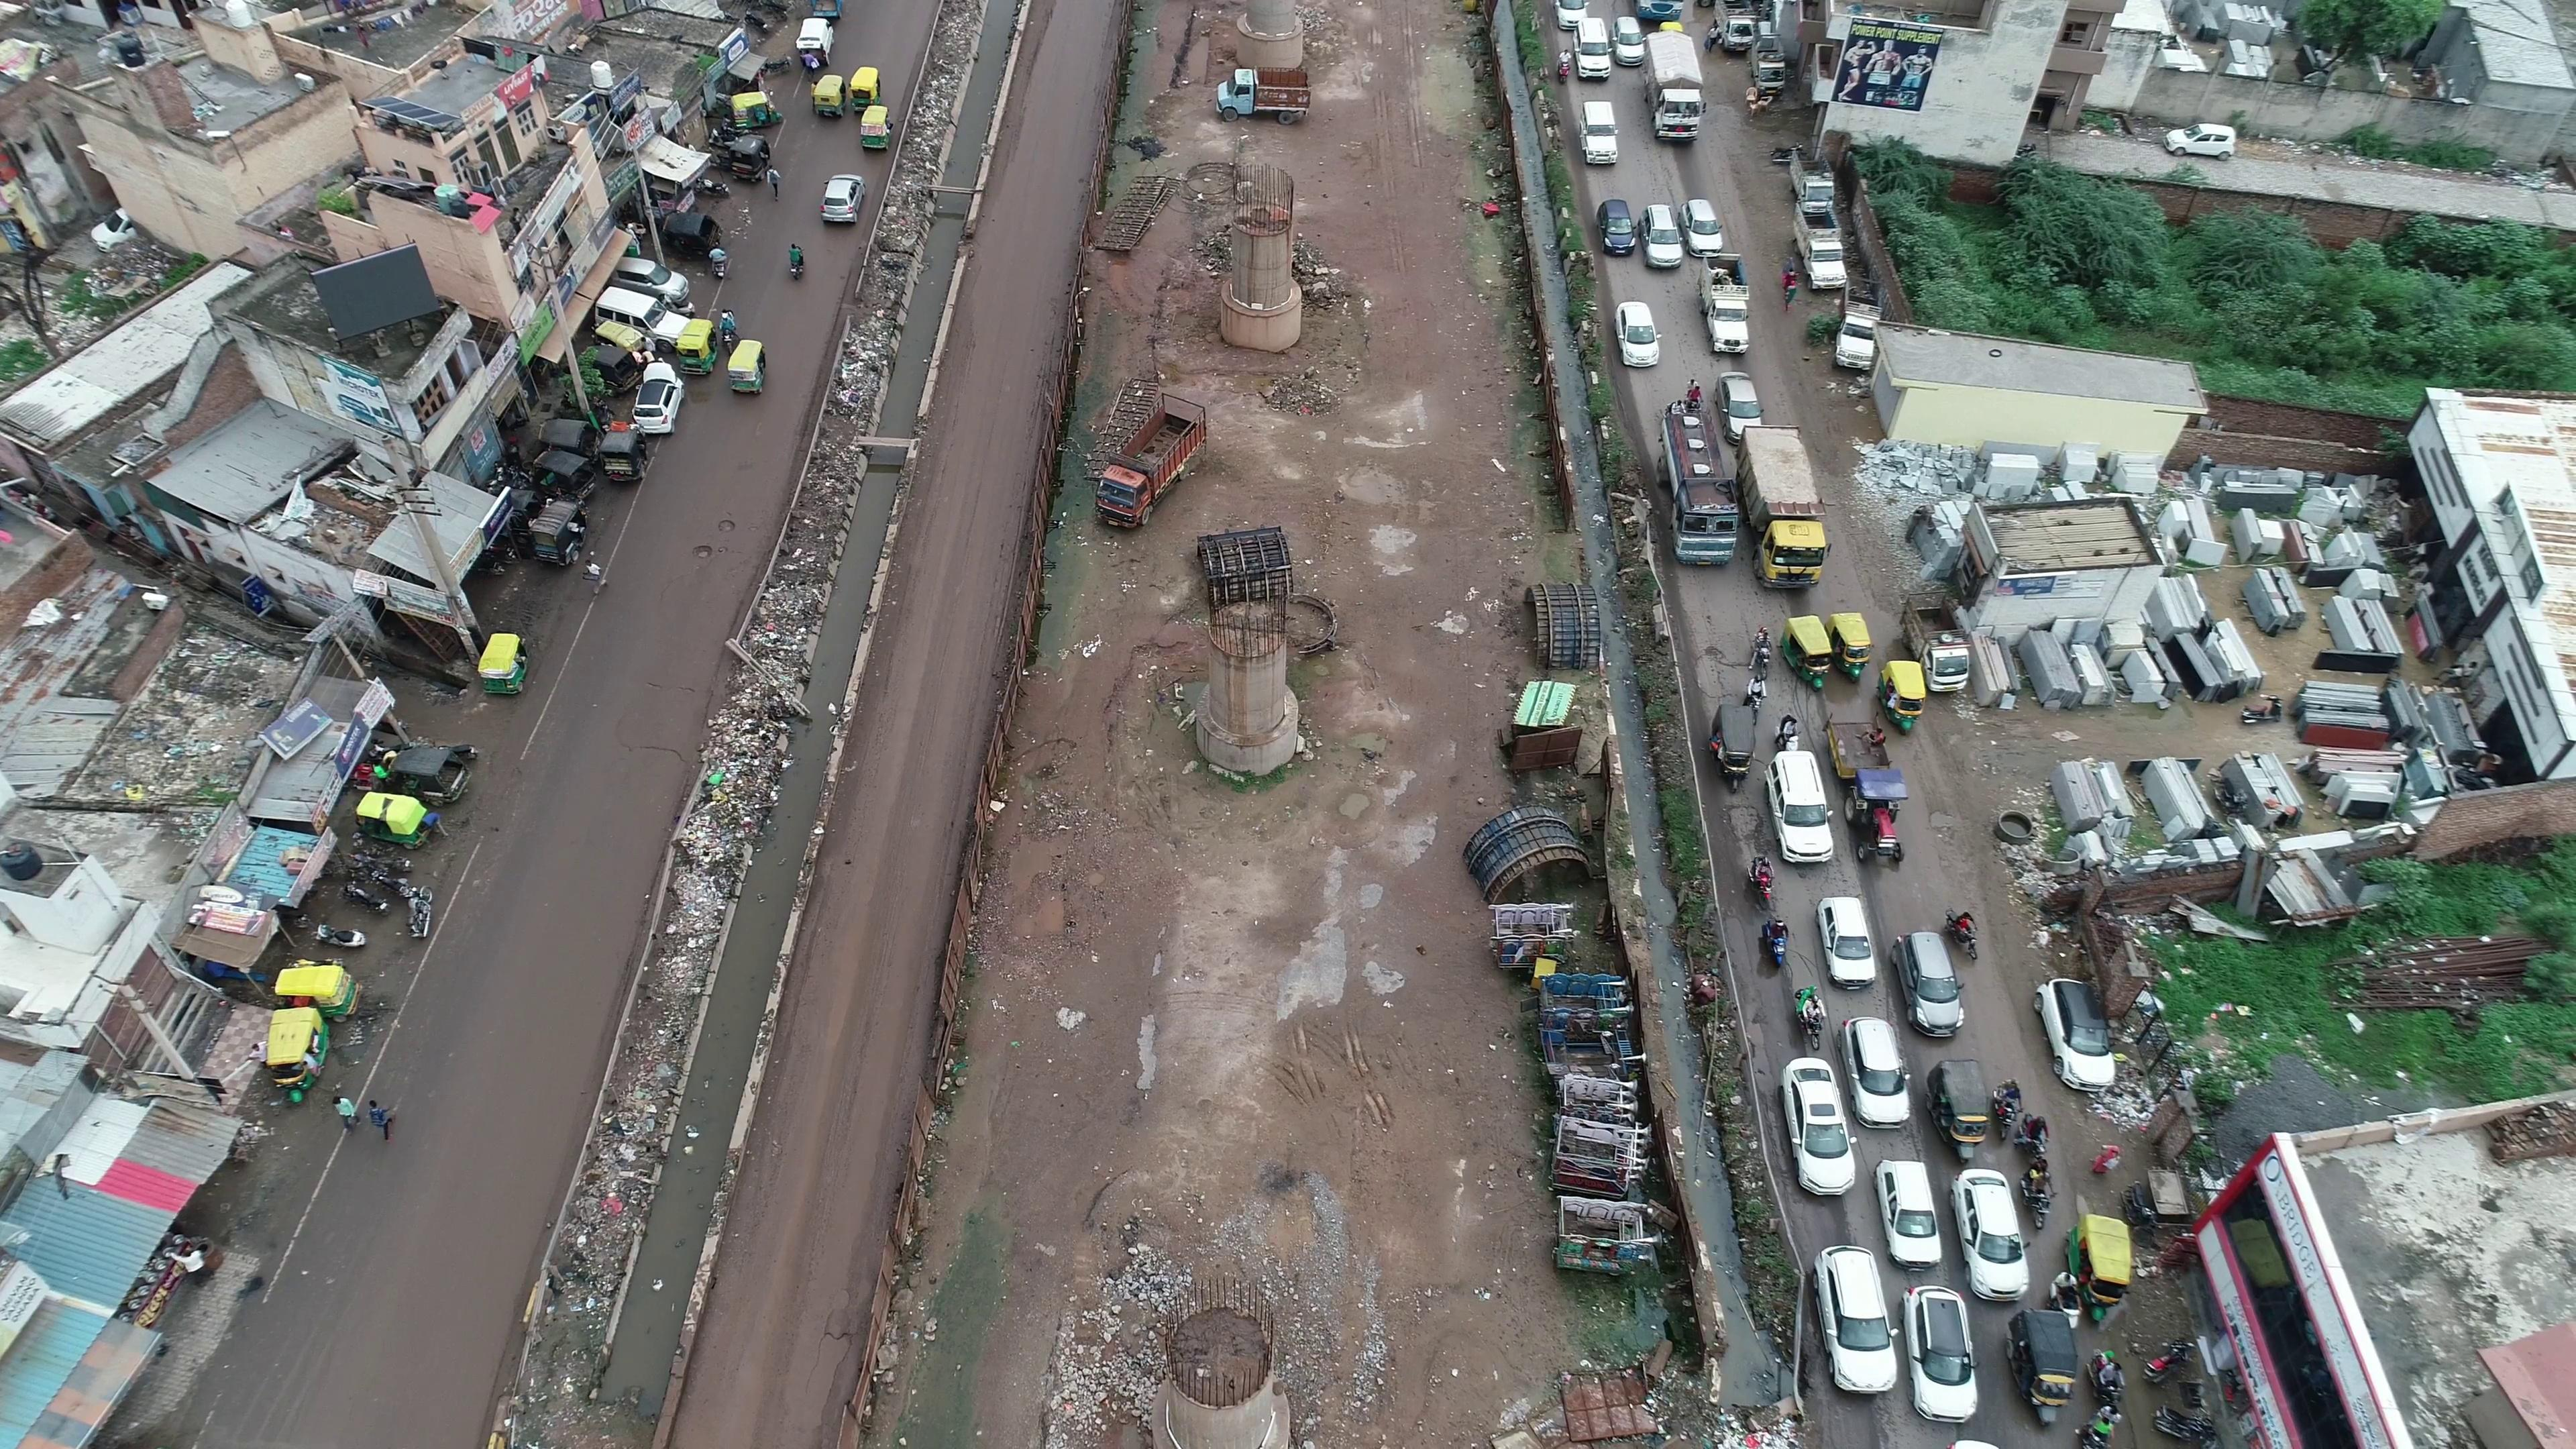Potholes: (632, 483, 777, 570)
